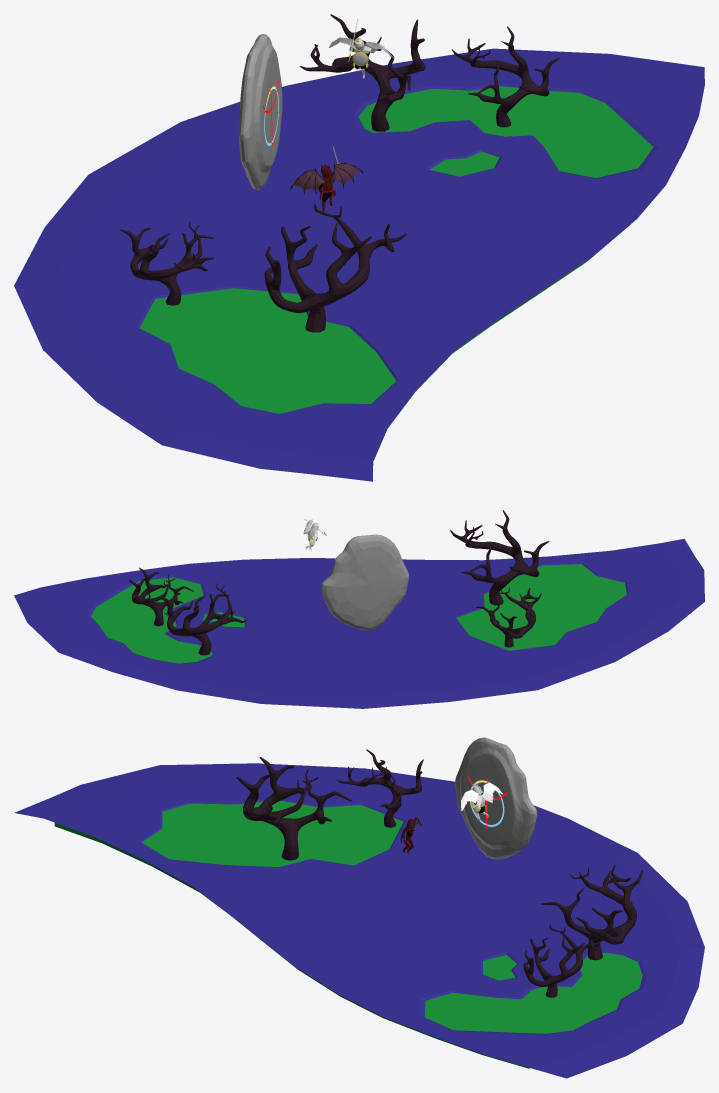
The model's file is DemonDesolateShowcase.glb.
3 renders of one model, top to bottom at view 1: azimuth 30°, elevation 25°; view 2: azimuth 150°, elevation 25°; view 3: azimuth 270°, elevation 25°, orthographic. The views are drawn at different scales.
Visible parts, largest first — view 1: DemonAngelShowcase, DemonMale_Heavy_Pointing, AngelMale_Heavy_Pointing; view 2: DemonAngelShowcase; view 3: DemonAngelShowcase, AngelMale_Heavy_Pointing.
Part boxes in pixels (x1,y1,x2,y2): DemonAngelShowcase: [14, 14, 704, 481]; DemonMale_Heavy_Pointing: [290, 145, 363, 211]; AngelMale_Heavy_Pointing: [329, 19, 393, 78]; DemonAngelShowcase: [14, 510, 704, 708]; DemonAngelShowcase: [14, 737, 704, 1078]; AngelMale_Heavy_Pointing: [461, 779, 502, 821].
Bounding box in the file's own units: 35.88 × 7.98 × 33.24.
